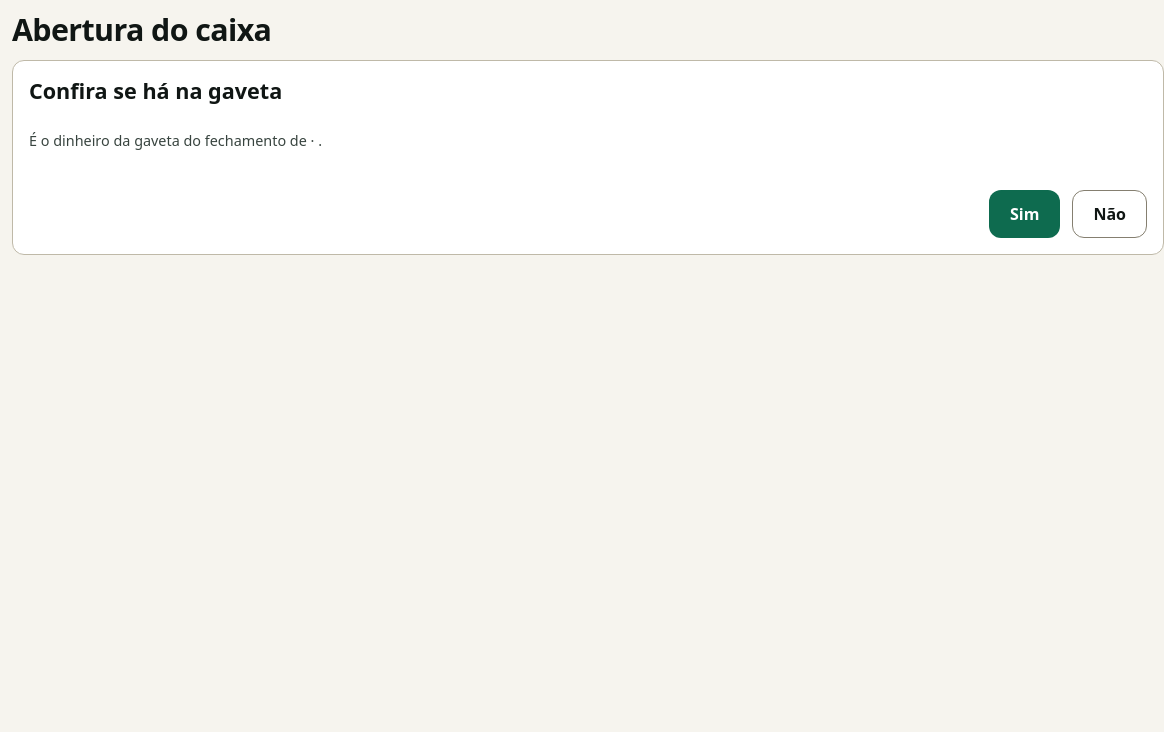
Scenario: etapa de abertura › mostra o erro do servidor (senha incorreta) e mantém o formulário aberto
Click the button "Não" at (1110, 214), box [1072, 190, 1147, 238]
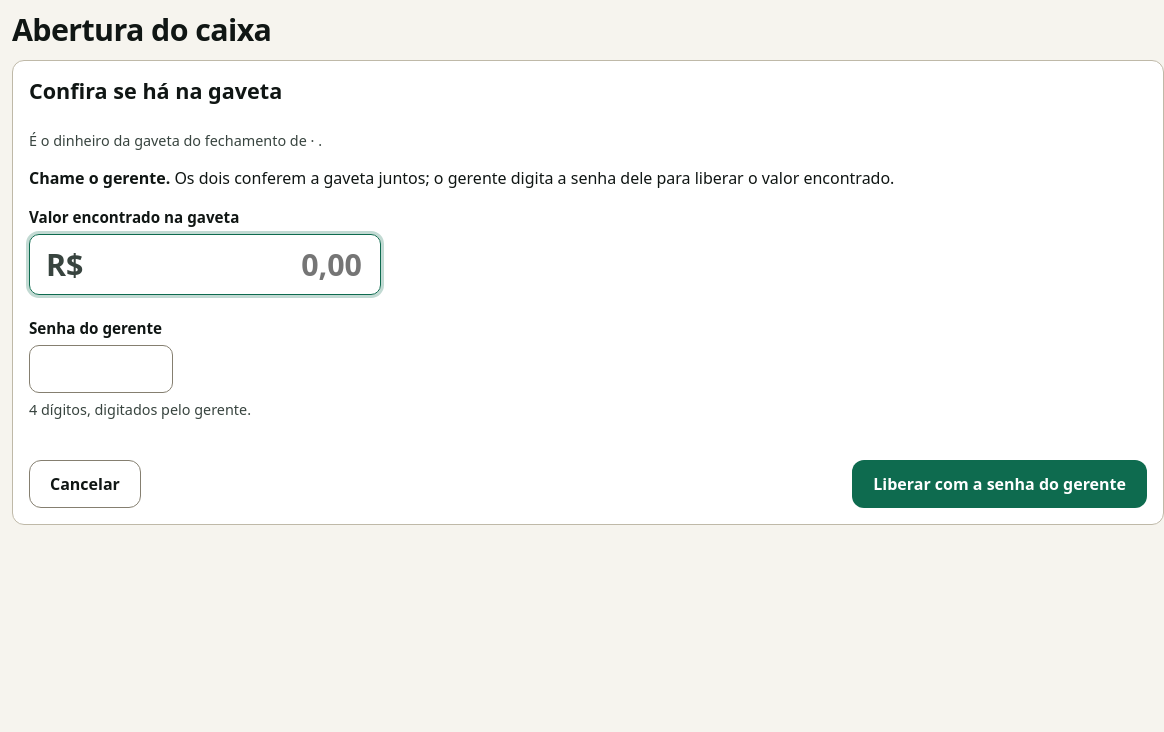
Type "550" into the field labelled "Valor encontrado na gaveta" at (228, 264), box [92, 240, 364, 288]
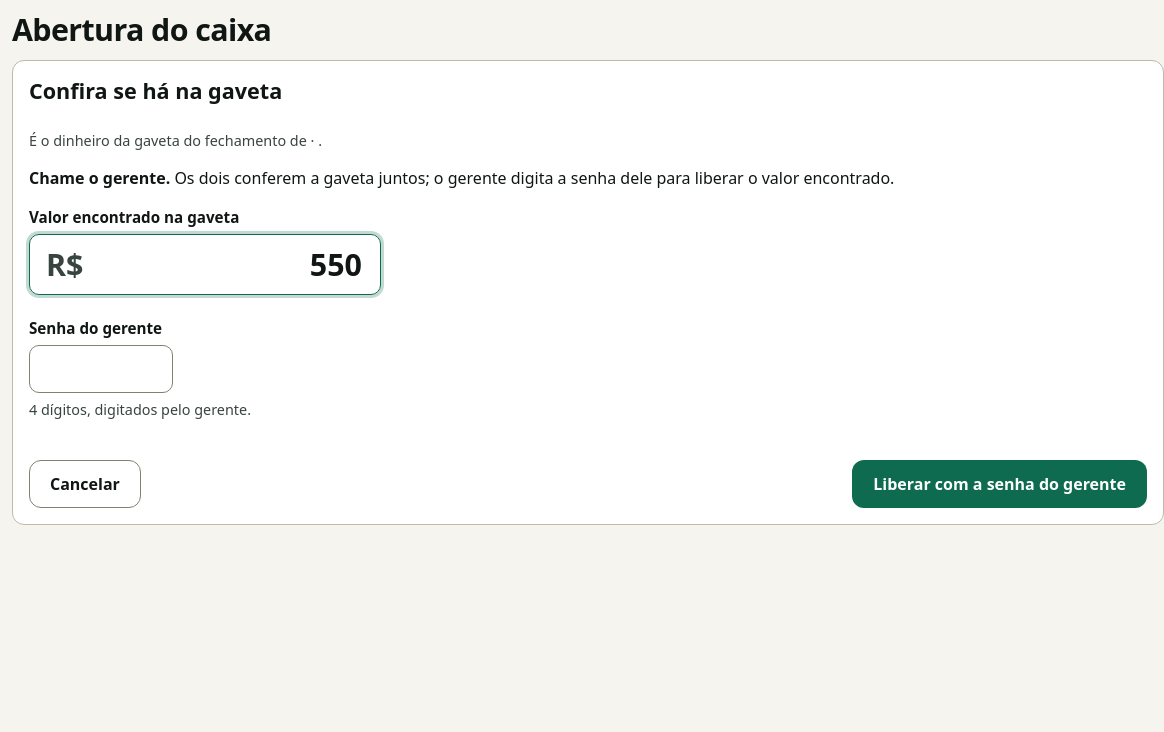
Type "0000" into the password field labelled "Senha do gerente" at (101, 369), box [29, 345, 173, 393]
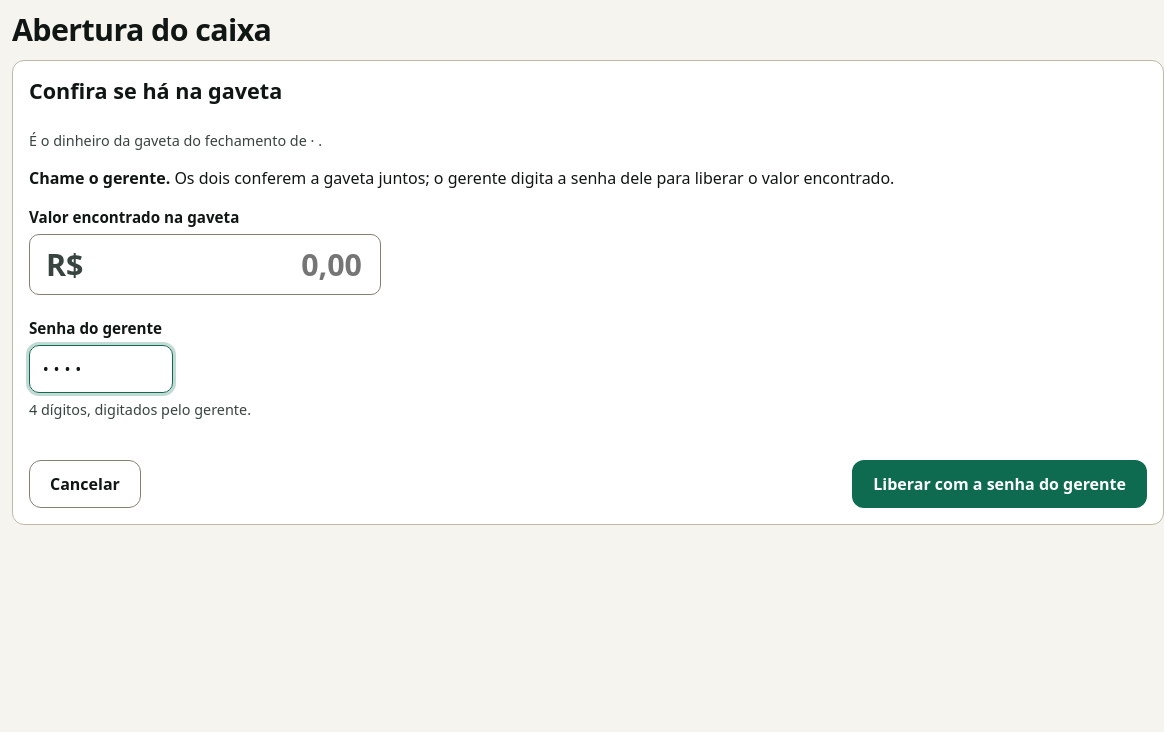
Click the button "Liberar com a senha do gerente" at (1000, 484), box [852, 460, 1147, 508]
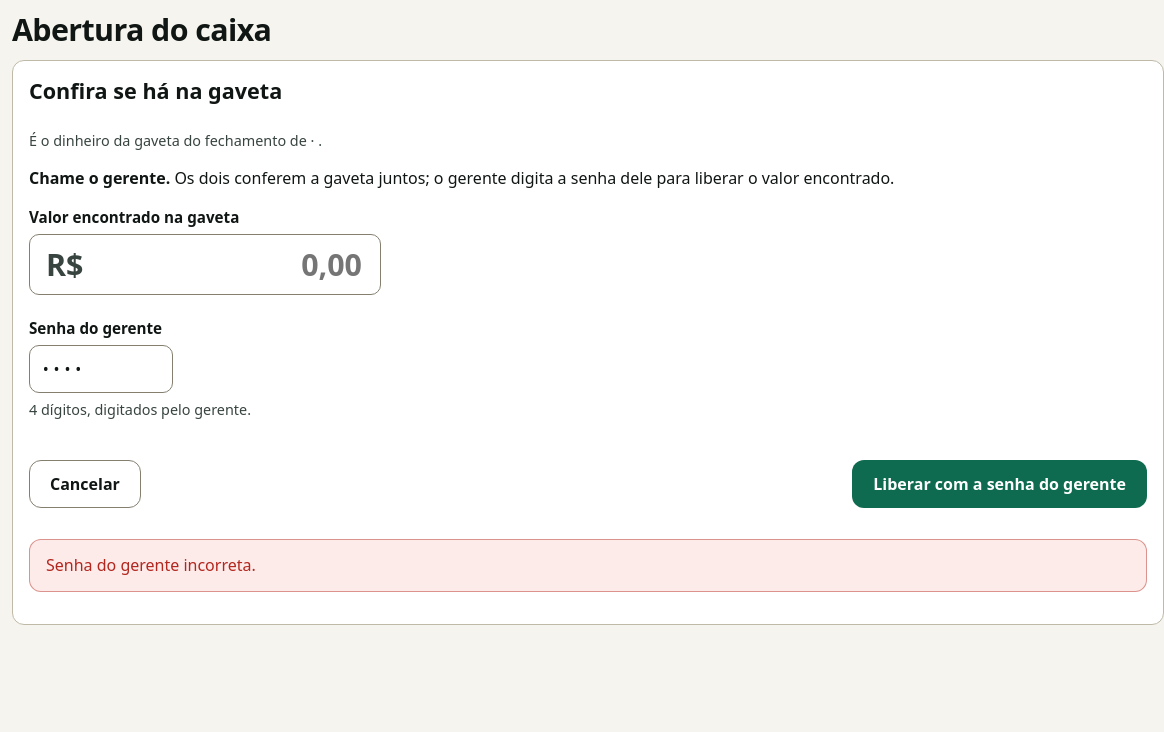
Check: the message reads "Senha do gerente incorreta.", box [46, 554, 256, 576]
